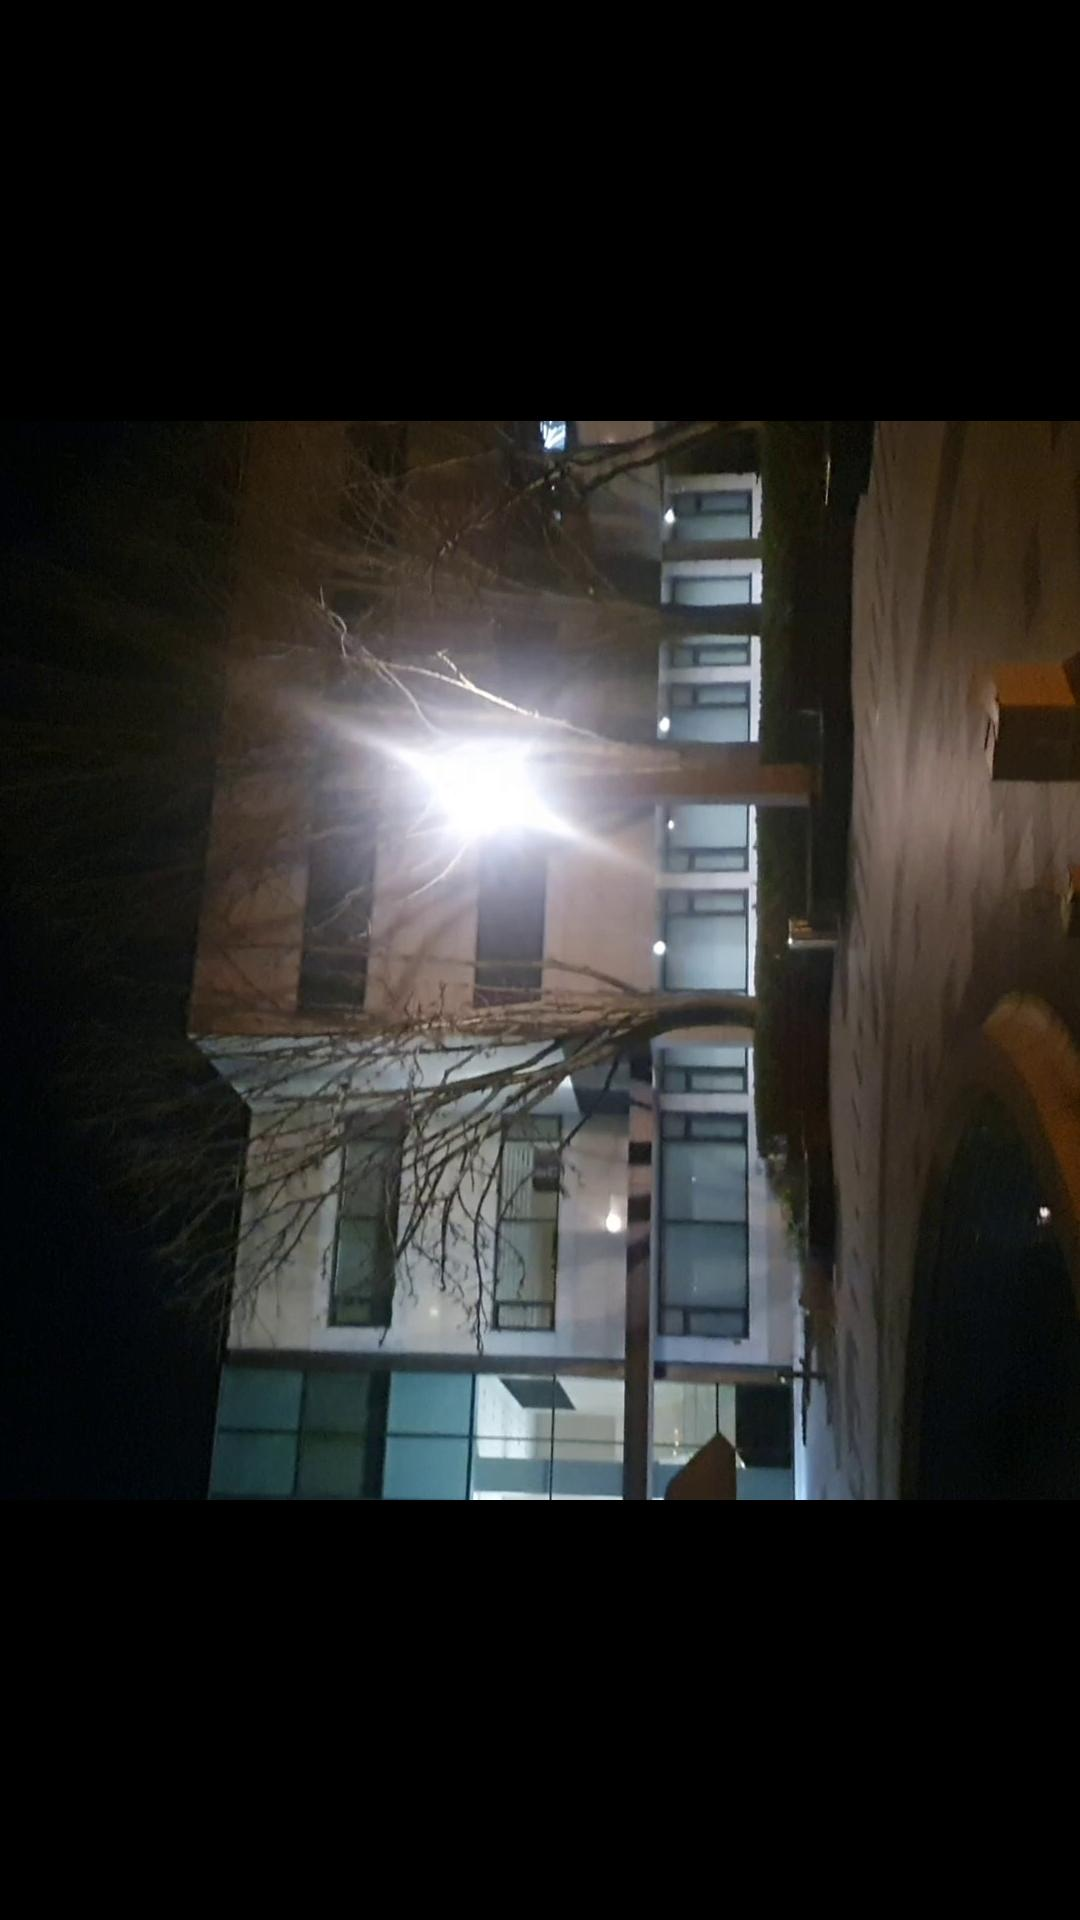Box: (975, 630, 1080, 794), (1044, 855, 1080, 934)
